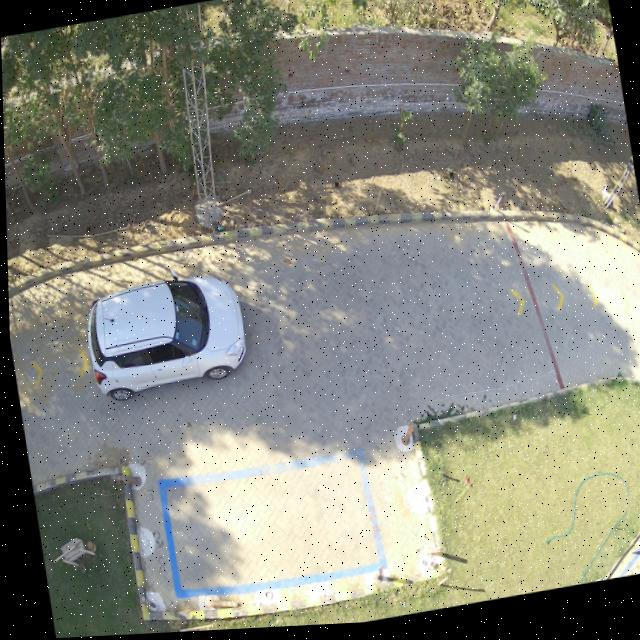car: (85, 278, 243, 400)
